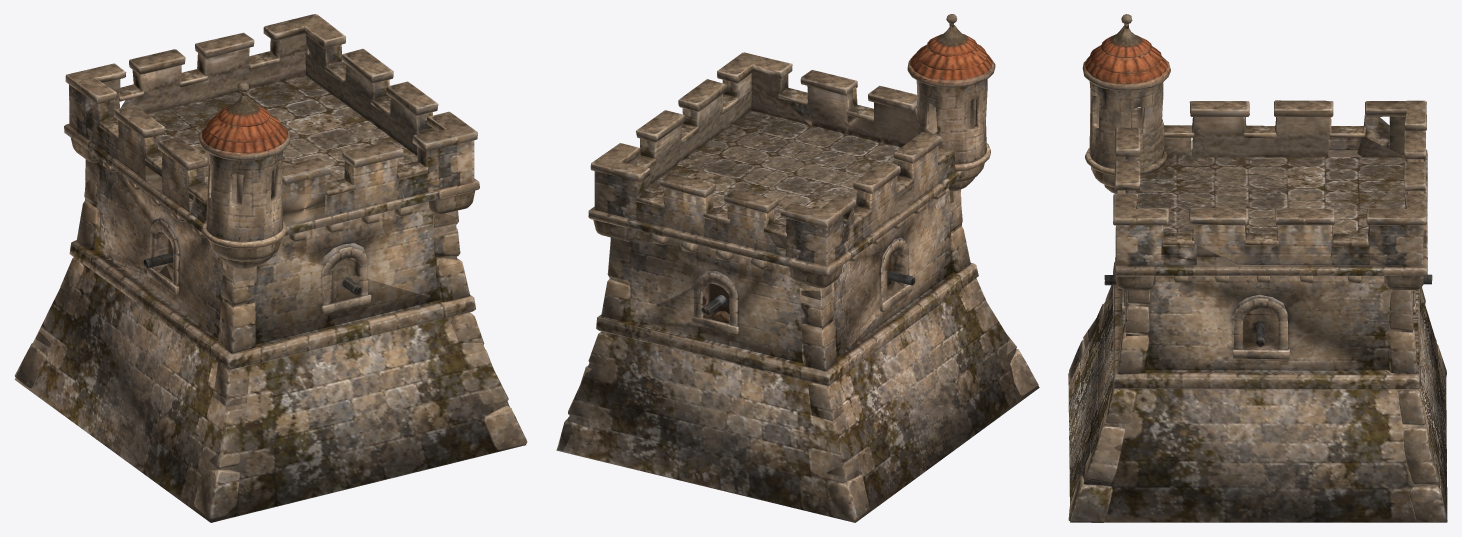
The model's file is fort-bastion.glb.
The picture shows the model from 3 angles, left to right: view 1: azimuth 30°, elevation 25°; view 2: azimuth 150°, elevation 25°; view 3: azimuth 270°, elevation 25°; orthographic projection. The views are drawn at different scales.
Parts seen in each view (by area): view 1: fort-bastion-v2_LOD0; view 2: fort-bastion-v2_LOD0; view 3: fort-bastion-v2_LOD0.
Part boxes in pixels (x1,y1,x2,y2): fort-bastion-v2_LOD0: [14, 14, 527, 522]; fort-bastion-v2_LOD0: [556, 14, 1039, 522]; fort-bastion-v2_LOD0: [1068, 14, 1447, 522].
Size of what is drawn, in the model's own units: 0.8299 by 1 by 0.8858.
Materials: 1 (1 with a texture image).
